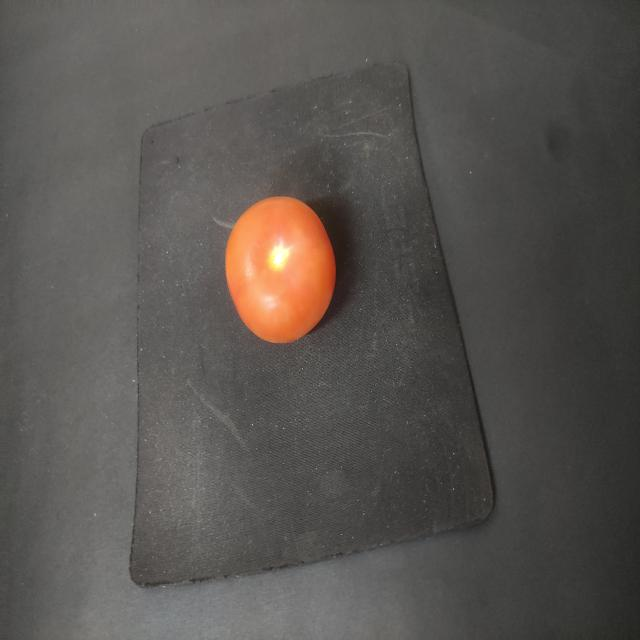sari: (219, 192, 336, 358)
